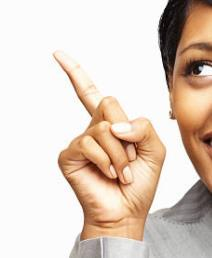up: (42, 47, 167, 220)
